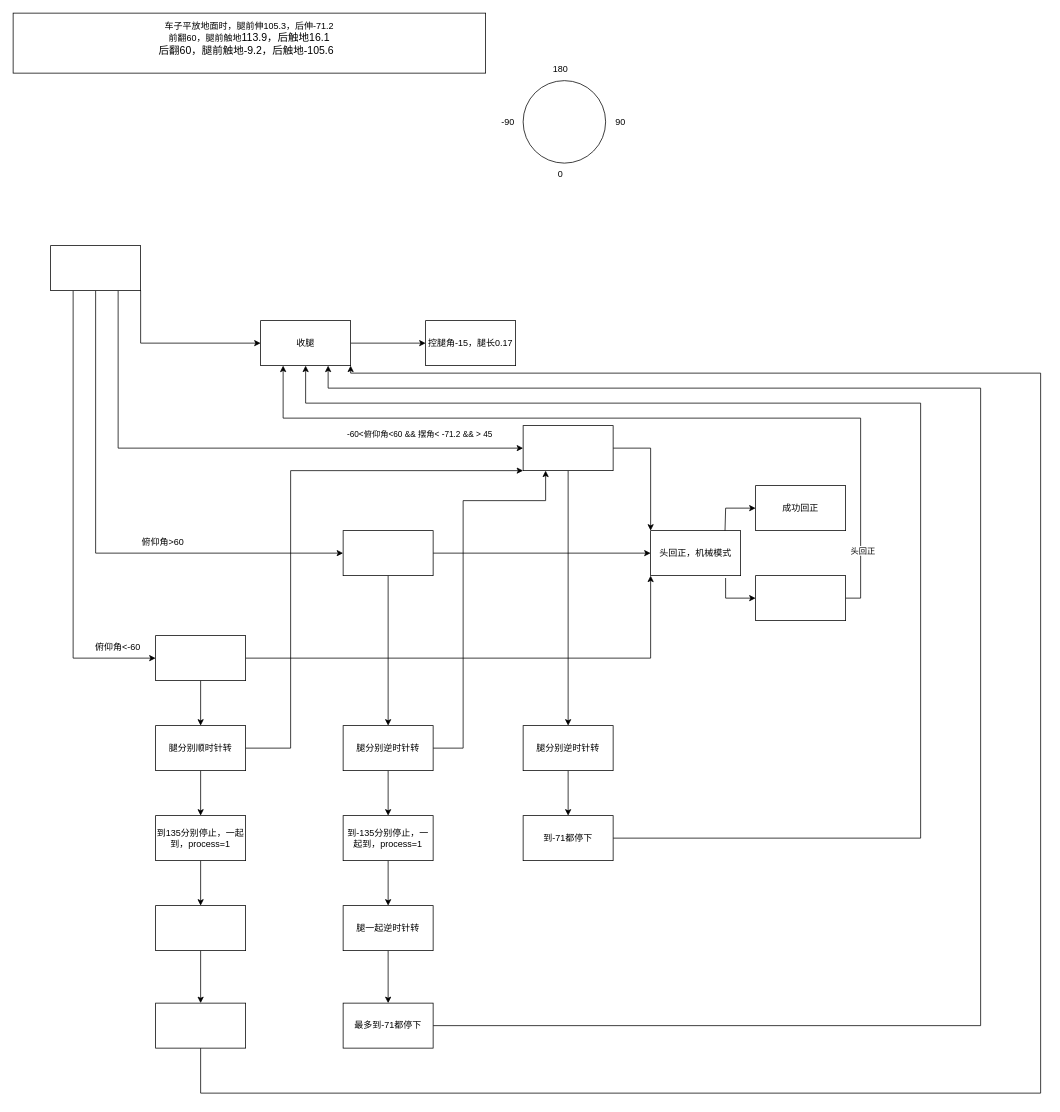
Image size: 1060x1112. Some labels were removed from this diagram. Each missing label, with the centre of its shape:
"前翻" goes at point (200, 658).
"后仰" goes at point (387, 553).
"无法回正，回到安全角度内<PI/4" goes at point (800, 598).
"最多到105都停下" goes at point (200, 1025).
"腿一起顺时针转" goes at point (200, 928).
"腿脱离" goes at point (567, 448).
"默认" goes at point (95, 268).
